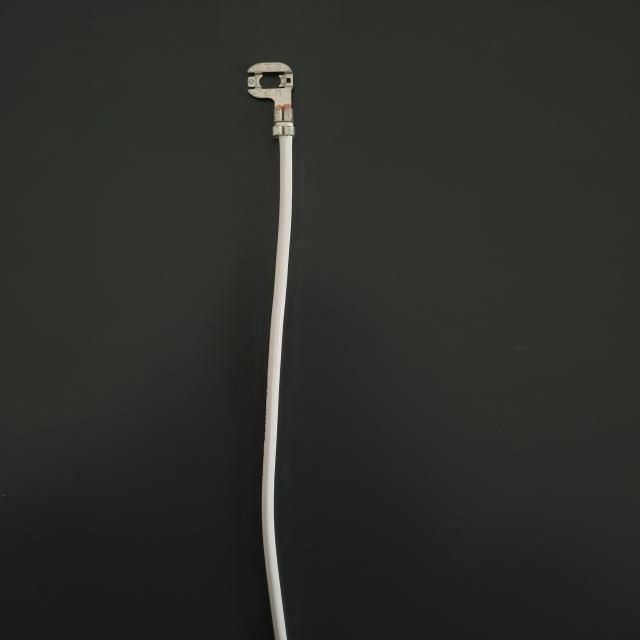good: (2, 5, 640, 639)
